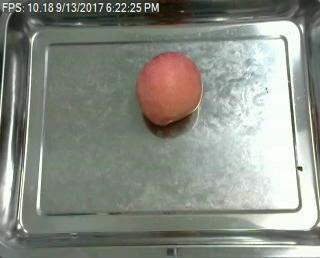apple: (136, 51, 203, 127)
